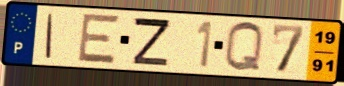1: (195, 20, 214, 71)
7: (270, 22, 307, 75)
E: (75, 12, 122, 66)
I: (43, 11, 56, 60)
Q: (222, 20, 266, 74)
Z: (131, 15, 173, 68)
